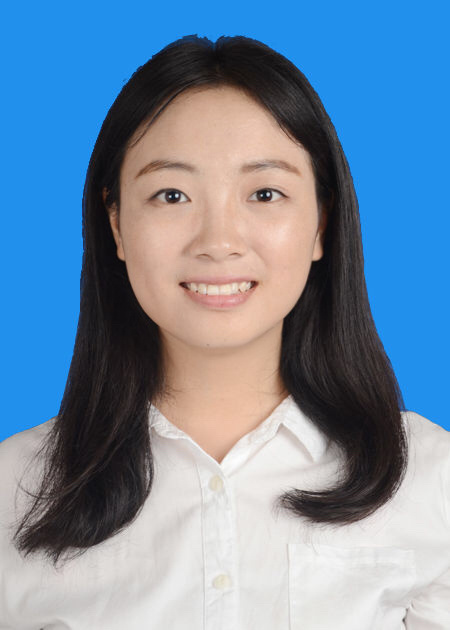unmask: (123, 112, 306, 332)
